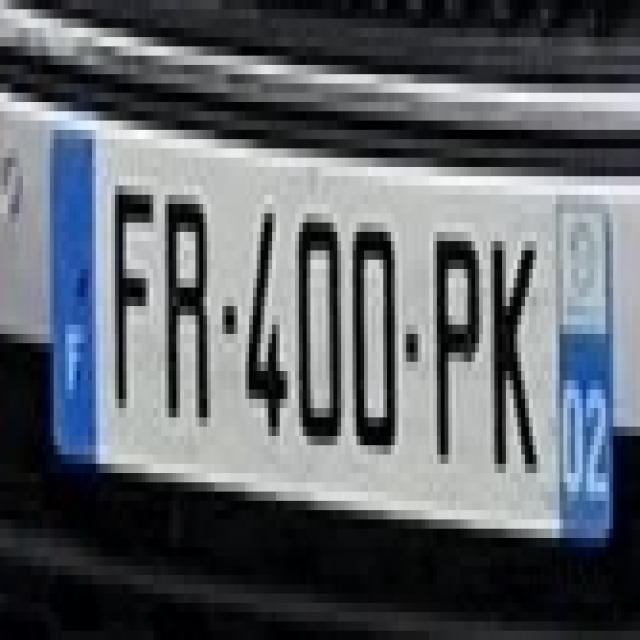EU: (45, 122, 613, 556)
France: (50, 130, 96, 470)
